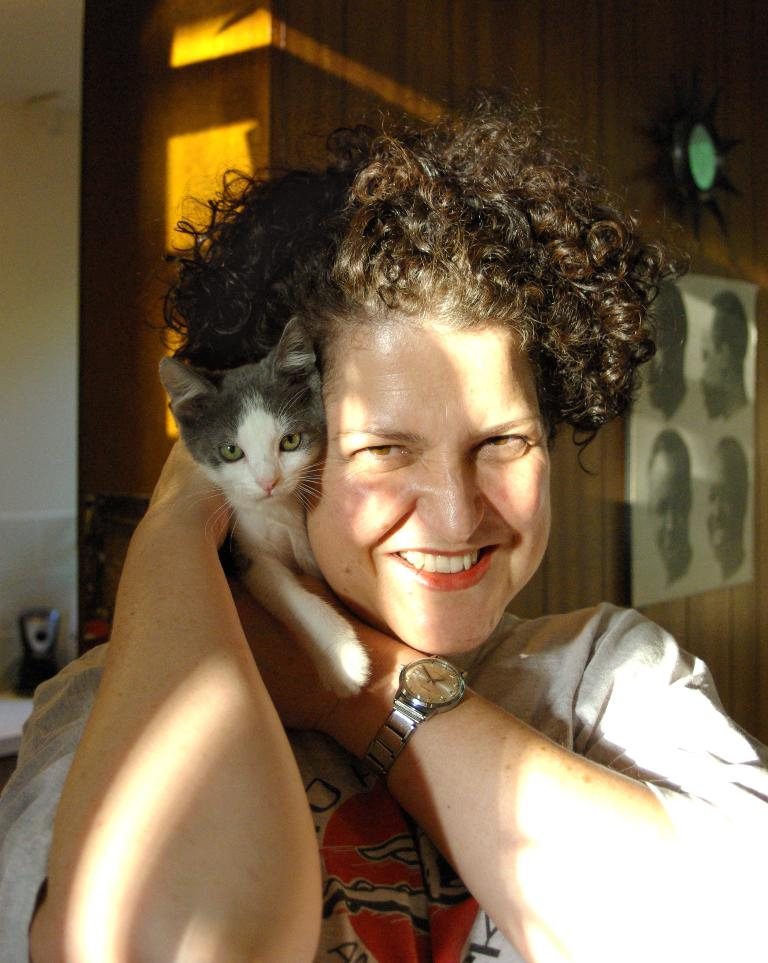watch: (357, 656, 468, 785)
